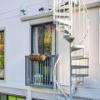stairs: (52, 0, 90, 100)
